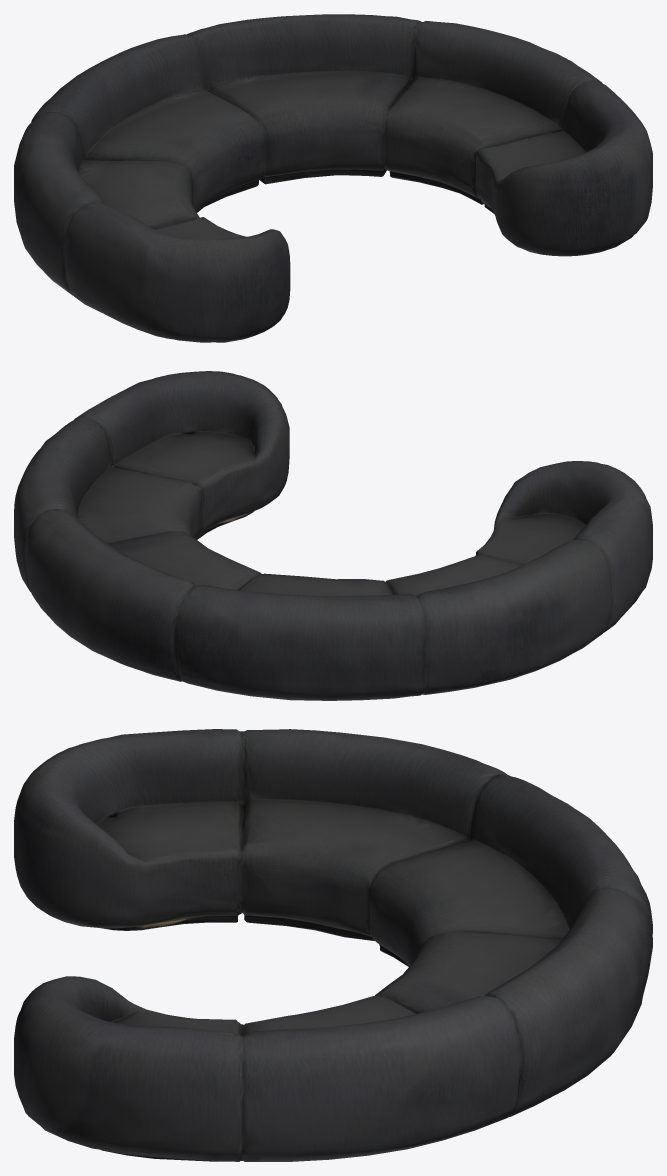
File: black_curved_velvet_sofa_0127183616_texture.glb
3 renders of one model, top to bottom at view 1: azimuth 30°, elevation 25°; view 2: azimuth 150°, elevation 25°; view 3: azimuth 270°, elevation 25°, orthographic. The views are drawn at different scales.
Visible parts, largest first — view 1: Mesh_0.001; view 2: Mesh_0.001; view 3: Mesh_0.001.
Part boxes in pixels (x1,y1,x2,y2): Mesh_0.001: [14, 14, 652, 342]; Mesh_0.001: [14, 371, 652, 700]; Mesh_0.001: [14, 729, 652, 1161].
Bounding box in the file's own units: 4.54 × 0.8128 × 3.65.
Materials: 1 (1 with a texture image).
